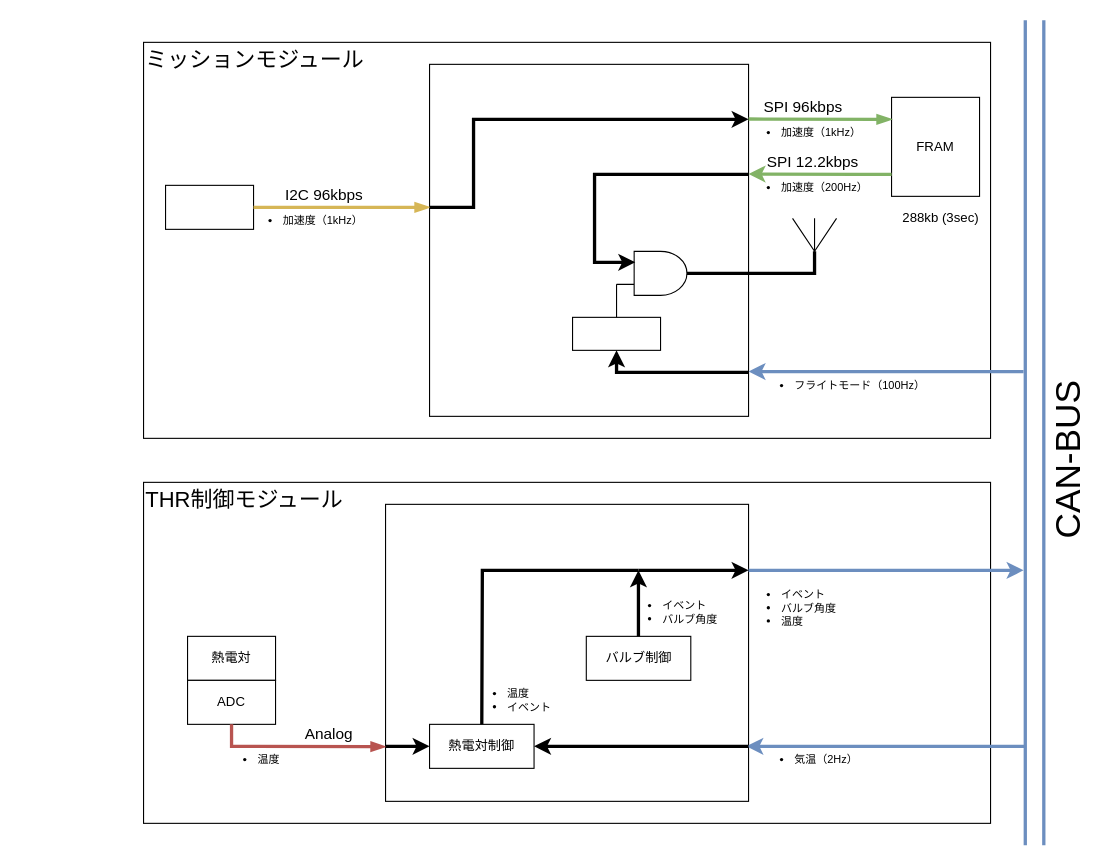
This 1108x866 diagram has some shape labels left out. The box of each missing label's shape, as (x1, y1, x2, y2) in pixels:
ADXL375: (164, 184, 254, 229)
遅延送信 制御: (571, 316, 661, 350)
